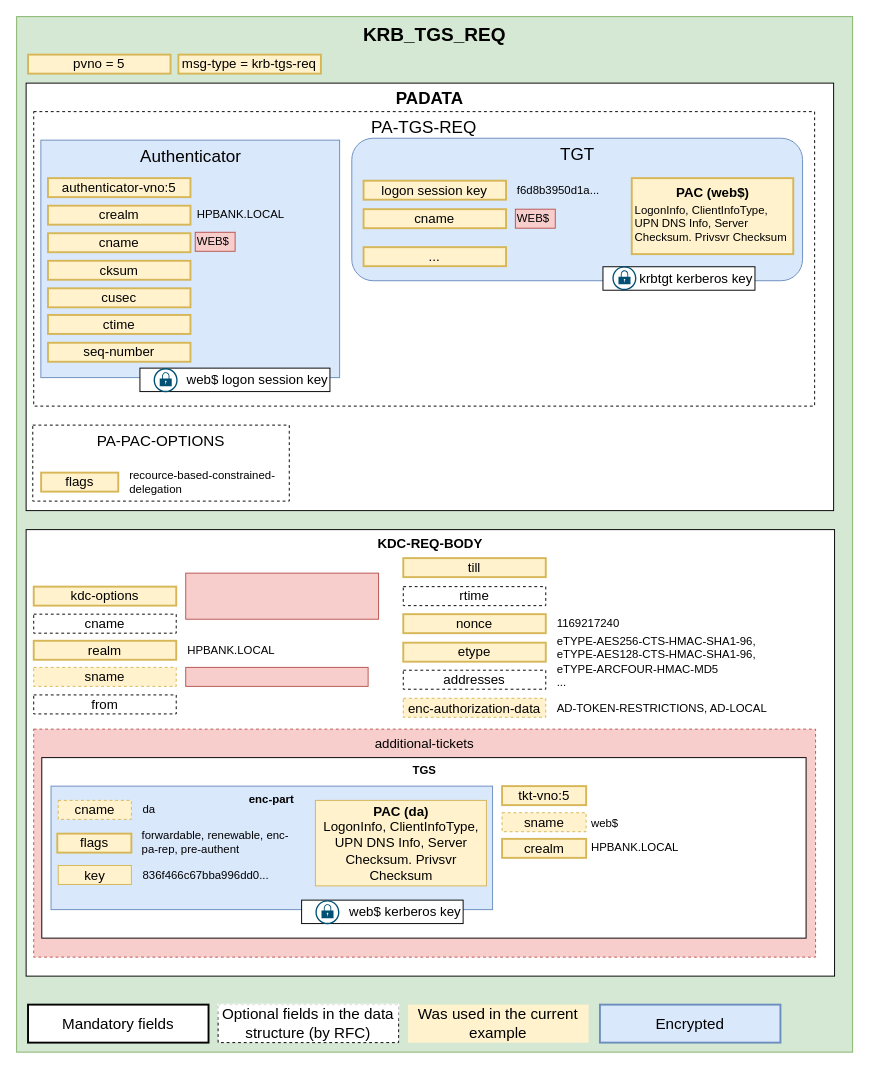
Some shapes in this 869 by 1069 pixel diagram are drawn without their labels. Here are the shapes that lost their labels. From the top down, the centre of each, then its label:
the point at 282,595: forwardable, renewable, canonicalize, constrained-delegation
the point at 276,676: MSSQLSvc/mssql01.hpbank.local
